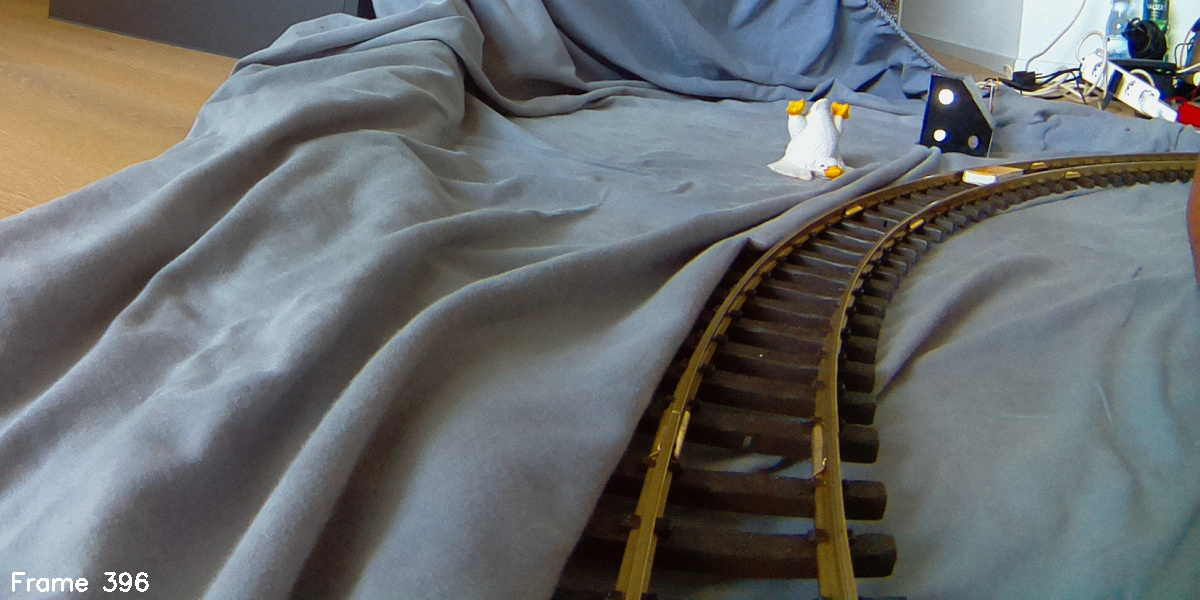Ente: (767, 96, 859, 180)
Fahrt: (918, 71, 994, 157)
